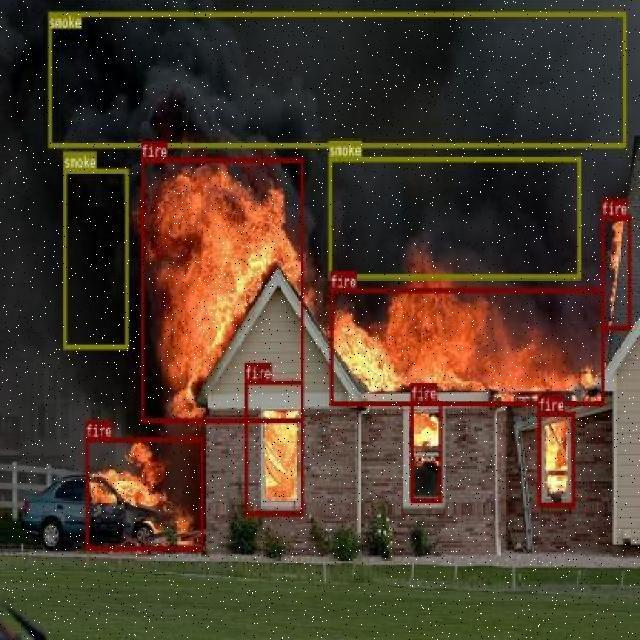Smoke: (41, 37, 620, 108), (328, 156, 580, 278), (63, 200, 127, 317)
